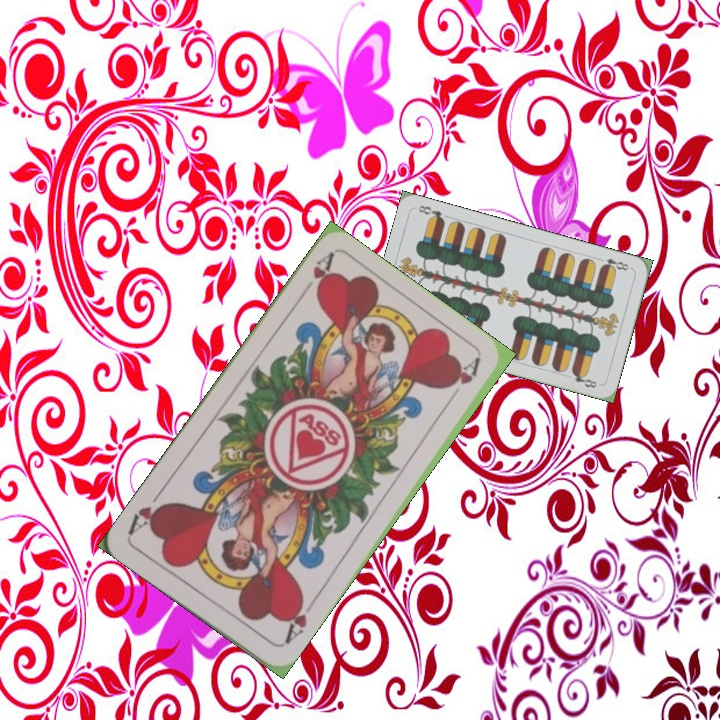E8: (594, 254, 634, 274)
HA: (277, 591, 318, 648), (294, 250, 336, 302)
